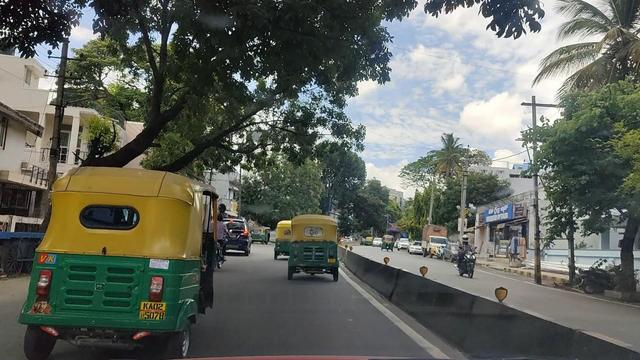LMV: (35, 170, 220, 353), (284, 213, 346, 278)
